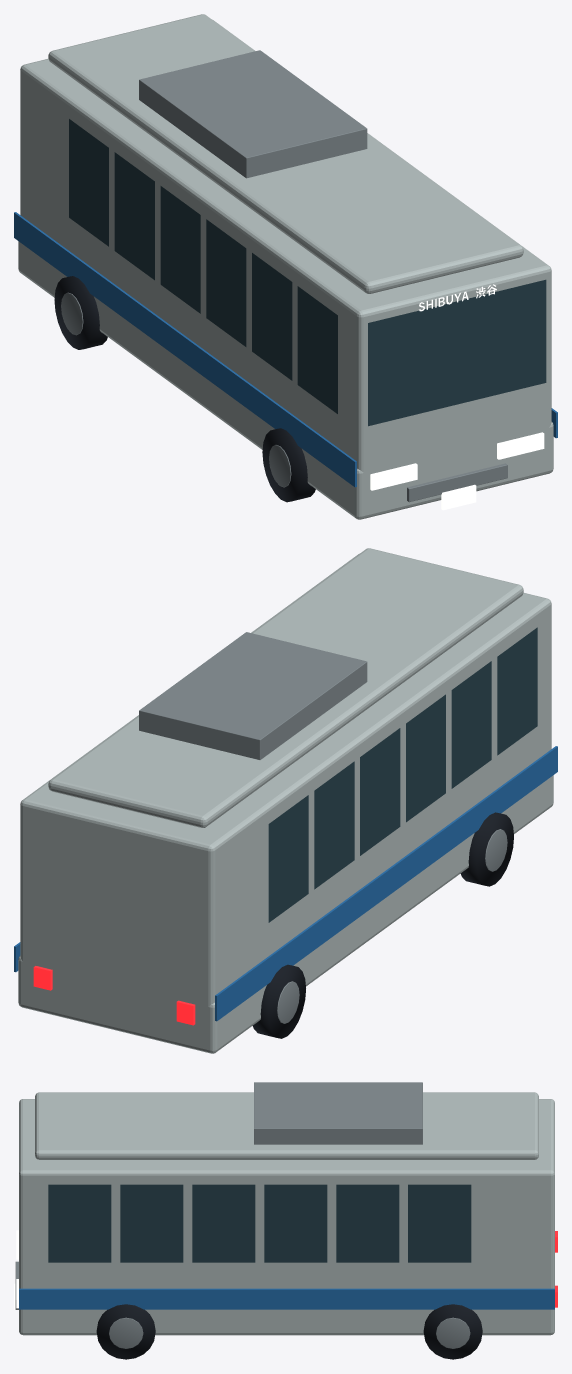
The model's file is citybus.glb.
3 renders of one model, top to bottom at view 1: azimuth 30°, elevation 25°; view 2: azimuth 150°, elevation 25°; view 3: azimuth 270°, elevation 25°, orthographic. The views are drawn at different scales.
Parts seen in each view (by area): view 1: citybus paint, citybus tinted windows, citybus trim, citybus blue stripe, citybus tires, citybus headlights; view 2: citybus paint, citybus tinted windows, citybus trim, citybus blue stripe, citybus tires, citybus tail lights; view 3: citybus paint, citybus tinted windows, citybus trim, citybus blue stripe, citybus tires.
Part boxes in pixels (box(x1,y1,x2,y2)): citybus paint: box(18, 14, 553, 519); citybus tinted windows: box(69, 119, 546, 426); citybus trim: box(61, 50, 507, 502); citybus blue stripe: box(14, 212, 557, 487); citybus tires: box(54, 276, 315, 502); citybus headlights: box(370, 432, 544, 510); citybus paint: box(18, 548, 553, 1053); citybus tinted windows: box(268, 627, 537, 922); citybus trim: box(139, 632, 507, 1023); citybus blue stripe: box(14, 746, 557, 1021); citybus tires: box(253, 812, 513, 1038); citybus tail lights: box(33, 966, 195, 1025); citybus paint: box(19, 1092, 554, 1335); citybus tinted windows: box(48, 1184, 471, 1262); citybus trim: box(15, 1082, 470, 1348); citybus blue stripe: box(19, 1288, 554, 1309); citybus tires: box(96, 1304, 482, 1359).
Size of the model in its own units: 2.68 by 3.2 by 7.41.
